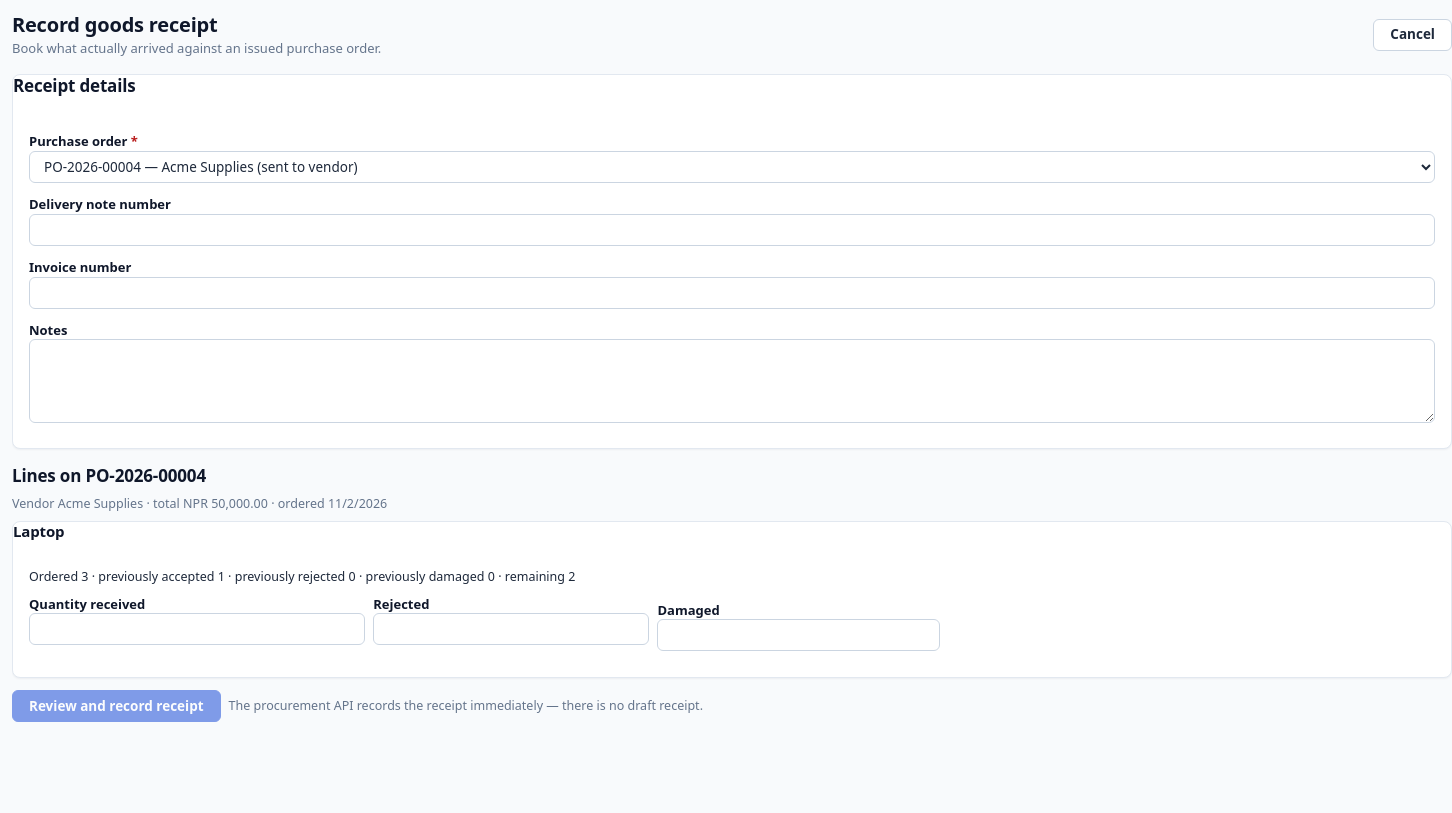
it: Goods receipt form › requires damage notes for damaged units
Type "2" into the number field named "received quantity for Laptop" at x=197, y=629, box top-left (29, 613), bottom-right (365, 645)
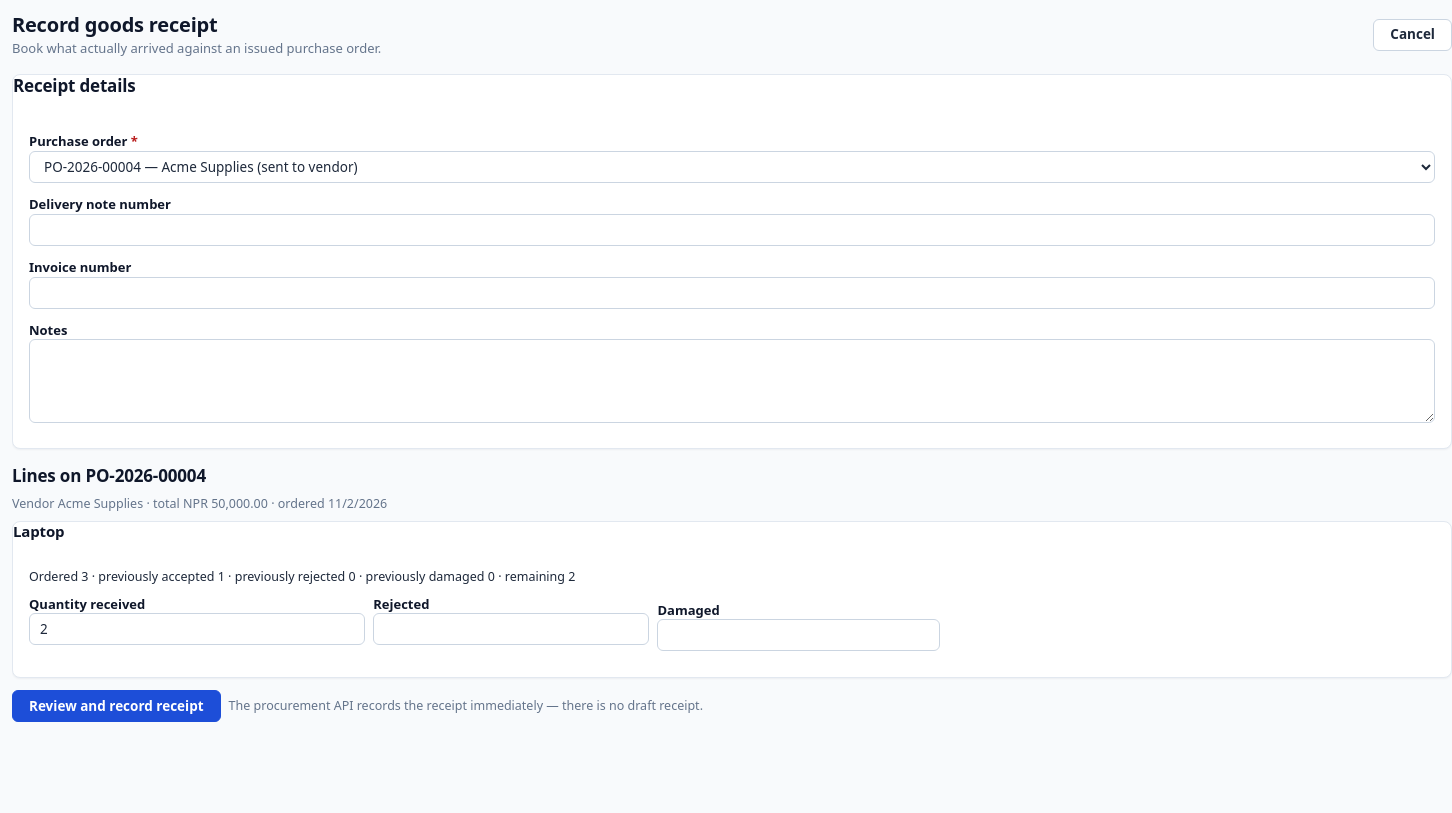
Type "1" into the number field named "damaged quantity for Laptop" at x=798, y=635, box top-left (657, 619), bottom-right (940, 651)
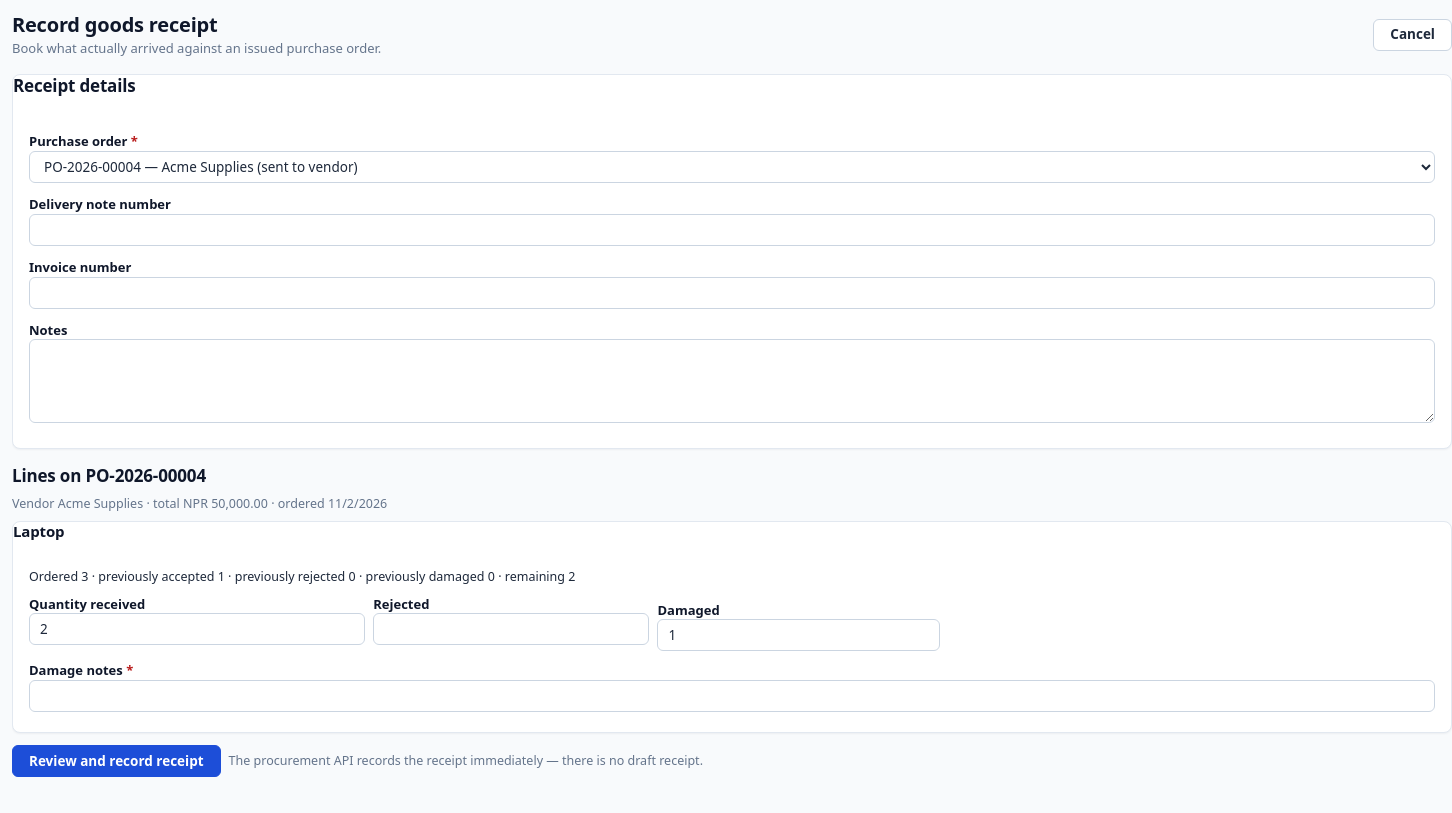
Click the button "Review and record receipt" at x=116, y=761, box top-left (12, 745), bottom-right (221, 777)
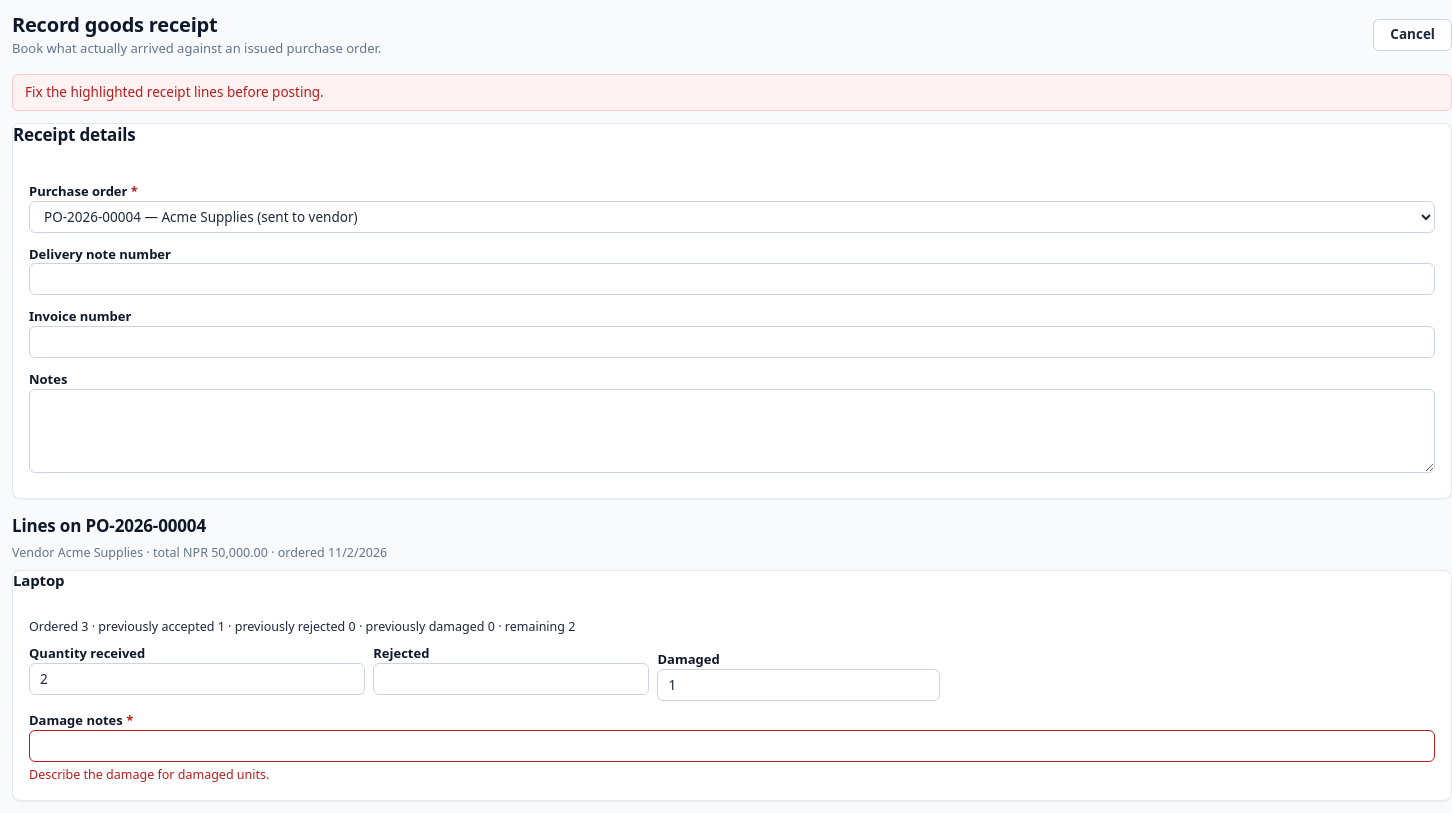
expect the text "Describe the damage for damaged units." is shown: met, box top-left (29, 766), bottom-right (269, 783)
